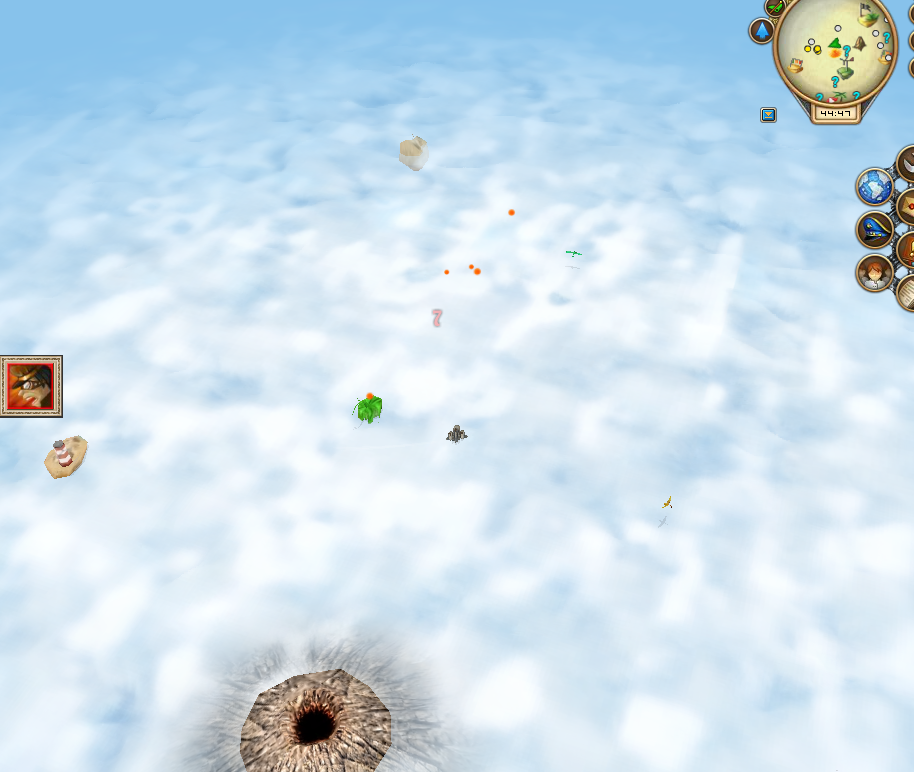dandelion-full: (350, 387, 388, 430)
fluff: (440, 265, 452, 278), (472, 267, 482, 276), (508, 207, 516, 217), (467, 260, 474, 270)
